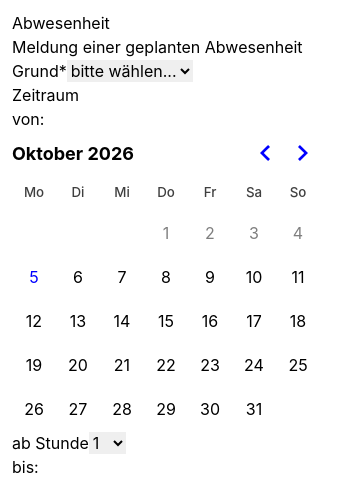
Test: StepOne - Absence Wizard Step 1 › Conditional Fields - Excursion › shows excursion classes field when reason is excursion
Expected: the field labelled "Klasse(n)" is not shown
Select "Exkursion" in the dropdown labelled "Grund*" at (130, 71), box [67, 60, 193, 82]
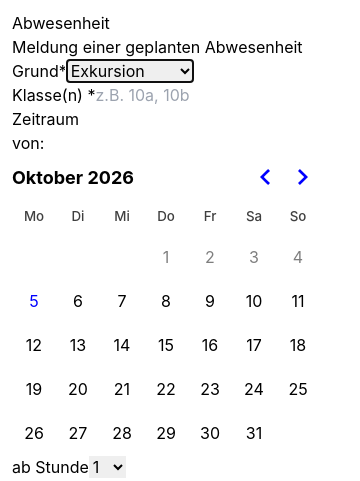
Result: the field labelled "Klasse(n) *" is shown at [96, 83, 344, 107]
